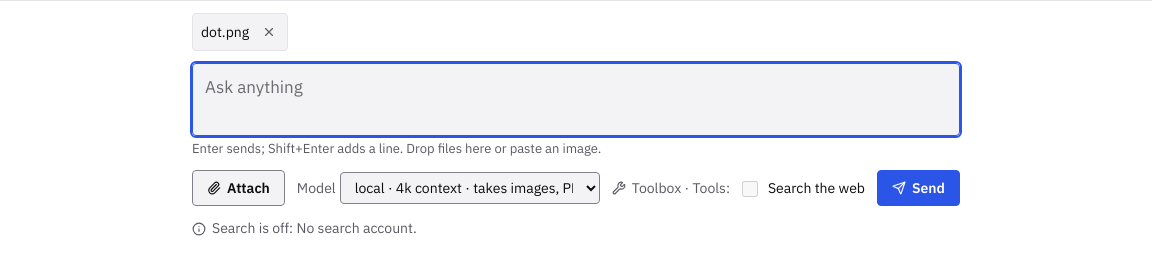
it: Remove on an attachment not yet sent (workbench#3) › holds Send while the delete is under way
Check: the button with test id "send" is enabled, box [877,170,960,206]
Step 1. Click the button named "Remove dot.png" → (269,32), box [253,16,285,48]
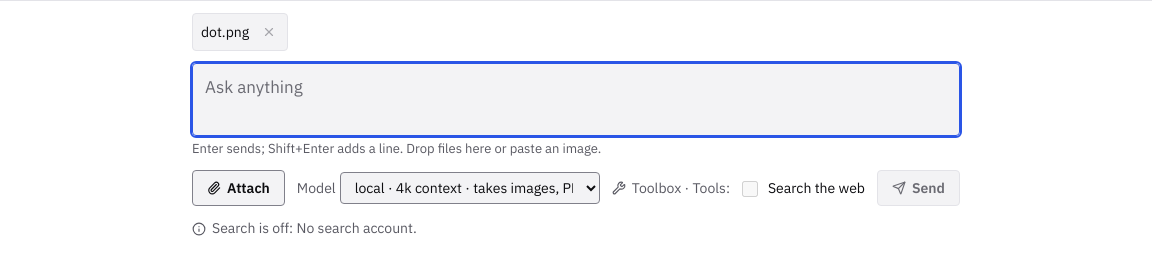
Check: the button with test id "send" is disabled, box [877,170,960,206]
Check: the button named "Remove dot.png" is disabled, box [253,16,285,48]
